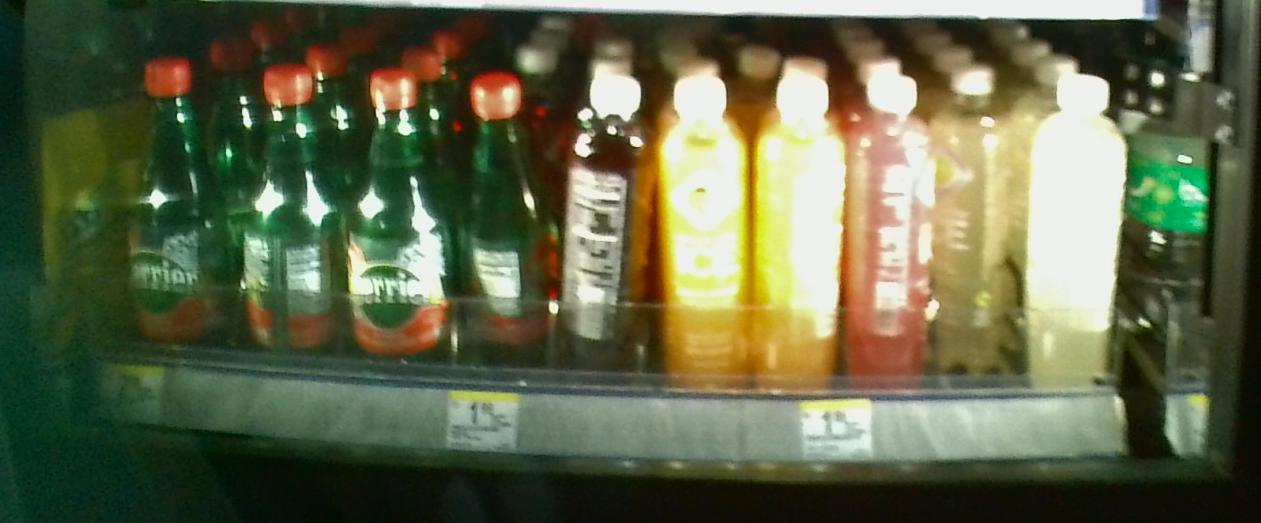bottle: (347, 56, 448, 365), (1031, 70, 1128, 388), (242, 61, 342, 359), (462, 68, 560, 368), (661, 70, 755, 378), (761, 64, 848, 392), (130, 51, 228, 341), (571, 73, 652, 369), (856, 73, 929, 395), (937, 68, 1007, 392)
